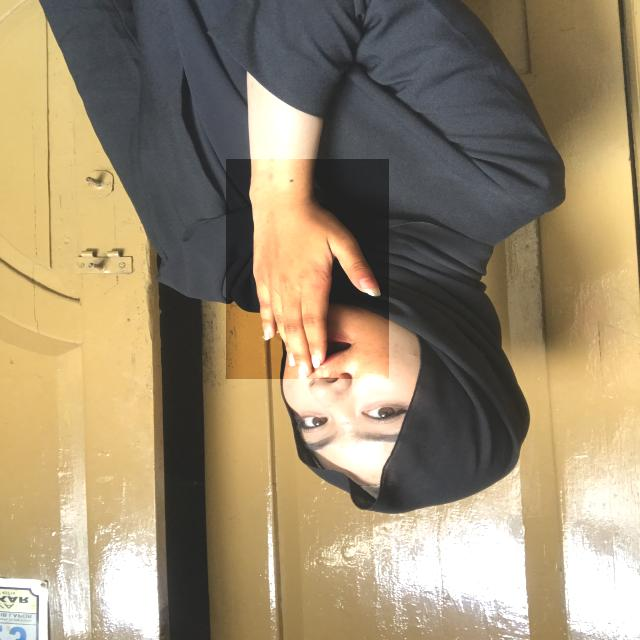ngantuk: (226, 159, 389, 379)
